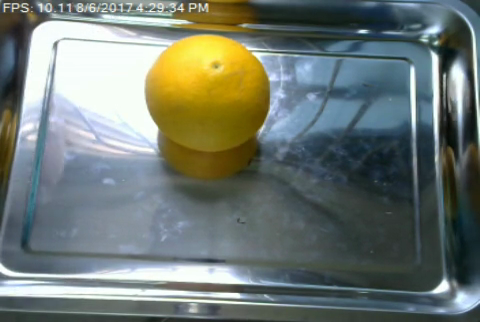Orange: (144, 35, 271, 150)
